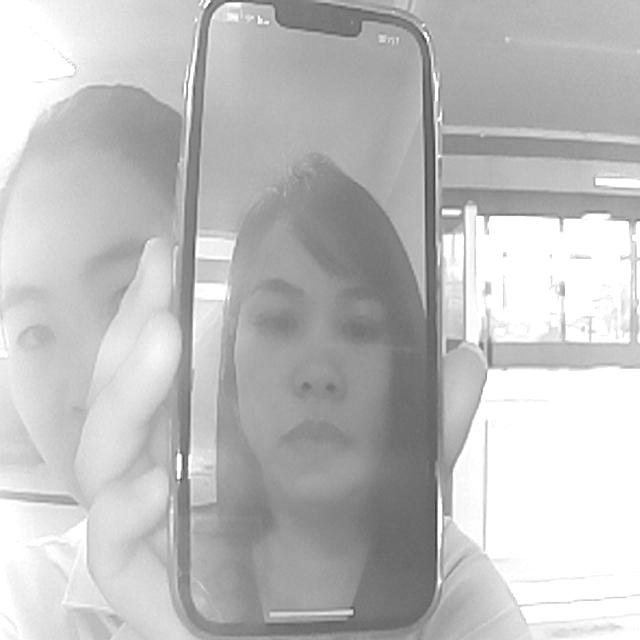fake: (169, 1, 450, 640)
